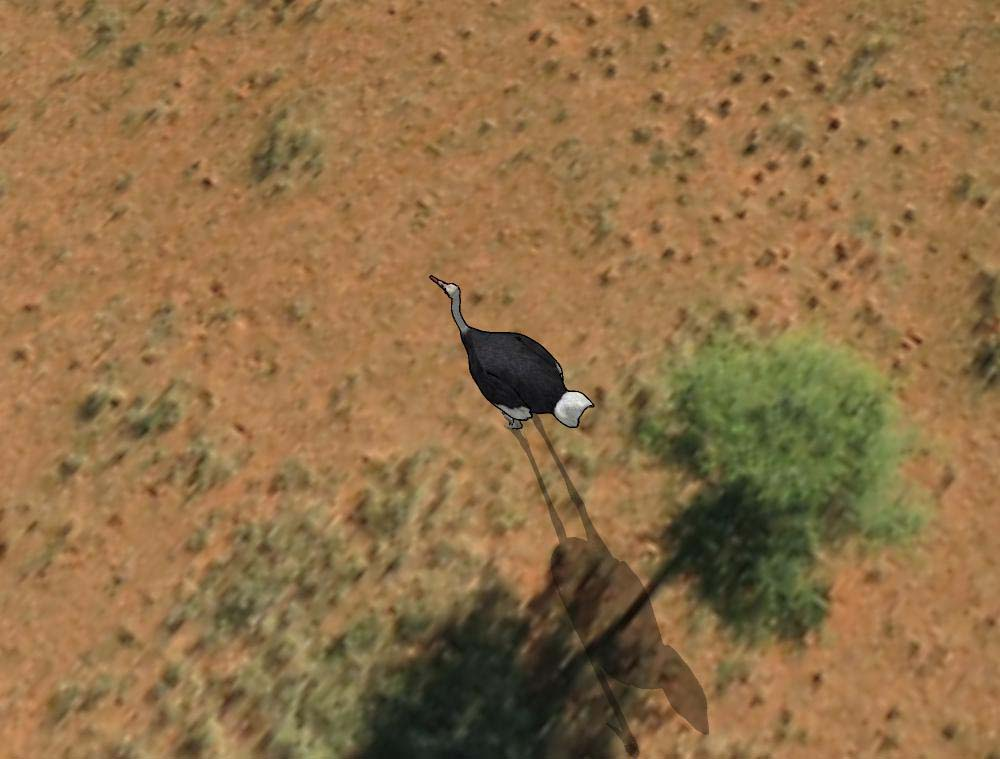ostrich: (427, 269, 595, 438)
